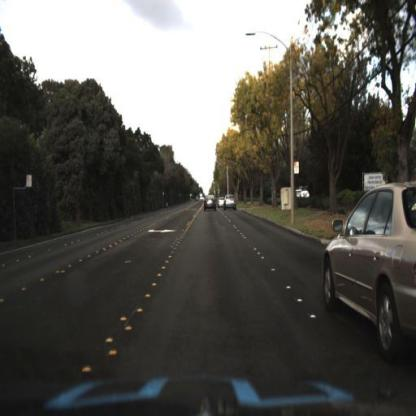car: (321, 172, 415, 363), (322, 180, 416, 364), (199, 191, 221, 215), (223, 188, 241, 215), (216, 194, 226, 210)
